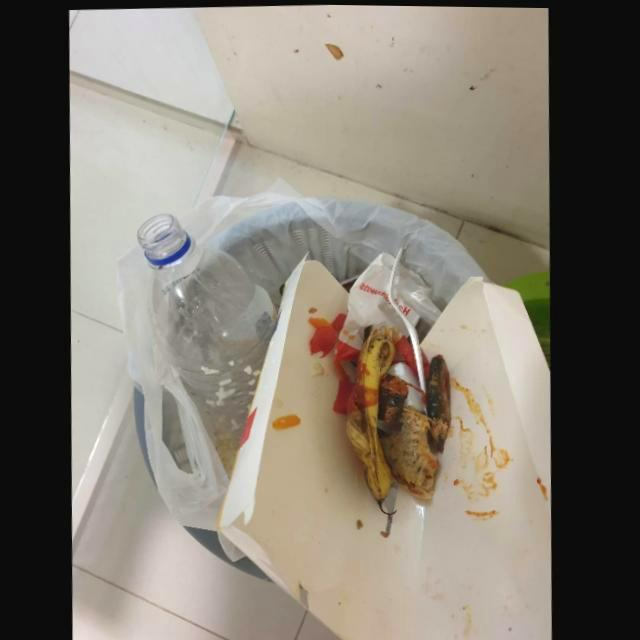cardboard: (221, 255, 556, 640)
left_over_food: (380, 353, 454, 499), (310, 312, 349, 357)
paper: (339, 246, 435, 362)
plastic_bottle: (138, 212, 280, 476)
